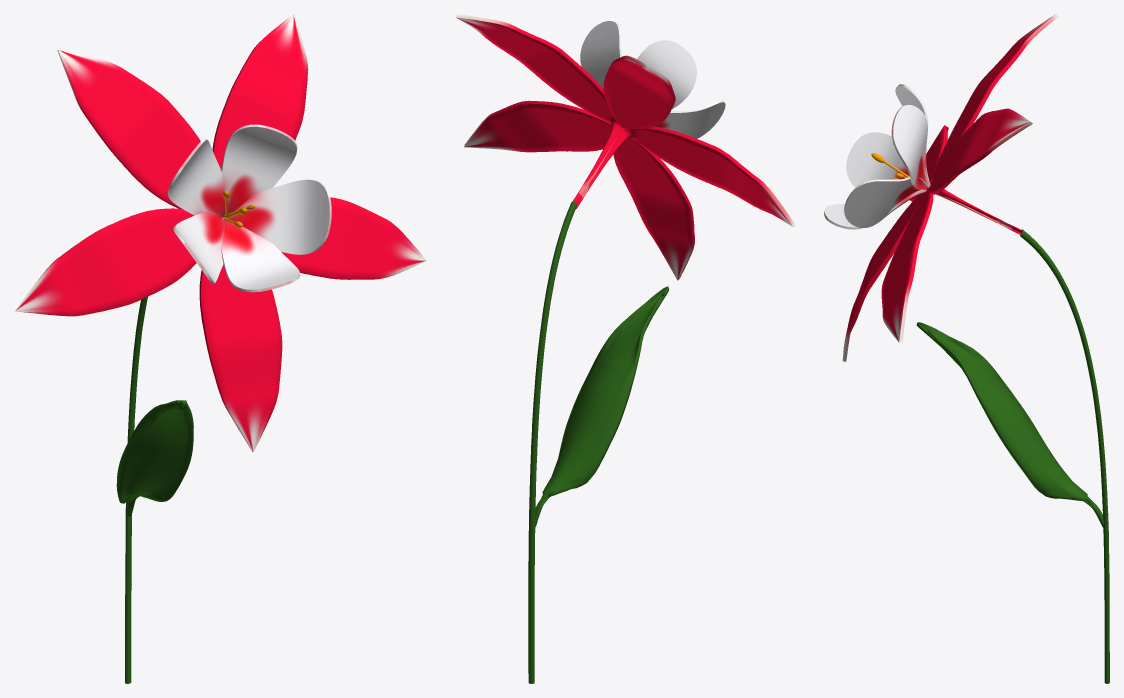
The picture shows the model from 3 angles, left to right: view 1: azimuth 30°, elevation 25°; view 2: azimuth 150°, elevation 25°; view 3: azimuth 270°, elevation 25°; orthographic projection. The views are drawn at different scales.
Visible parts, largest first — view 1: f17; view 2: f17; view 3: f17.
Part boxes in pixels (x1=…): f17: x1=15, y1=14, x2=426, y2=683; f17: x1=455, y1=14, x2=795, y2=683; f17: x1=824, y1=14, x2=1109, y2=683.
Size of the model in its own units: 0.4967 by 0.8322 by 0.3452.
Materials: 4 (2 with a texture image).
